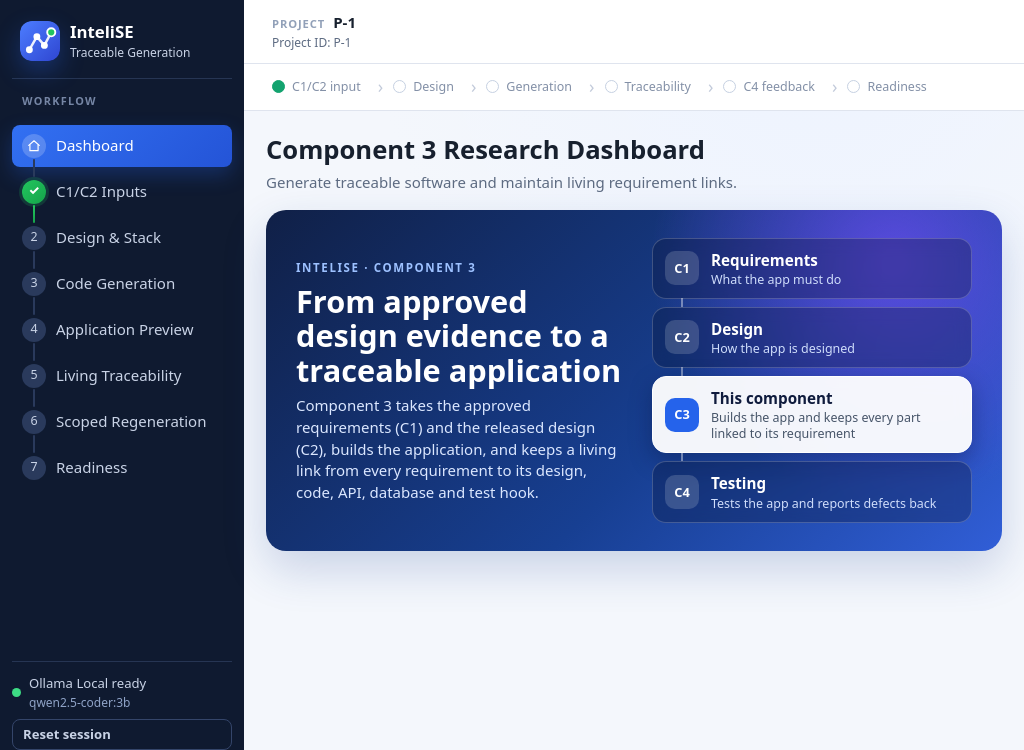
it: Design coverage card › does not reuse a coverage report cached only by release labels
The width and height of the screenshot is (1024, 750).
What coordinates should you click on to do the following:
click the button "2 Design & Stack"
I would click on:
 (122, 238)
Its box is [12,216,232,258].
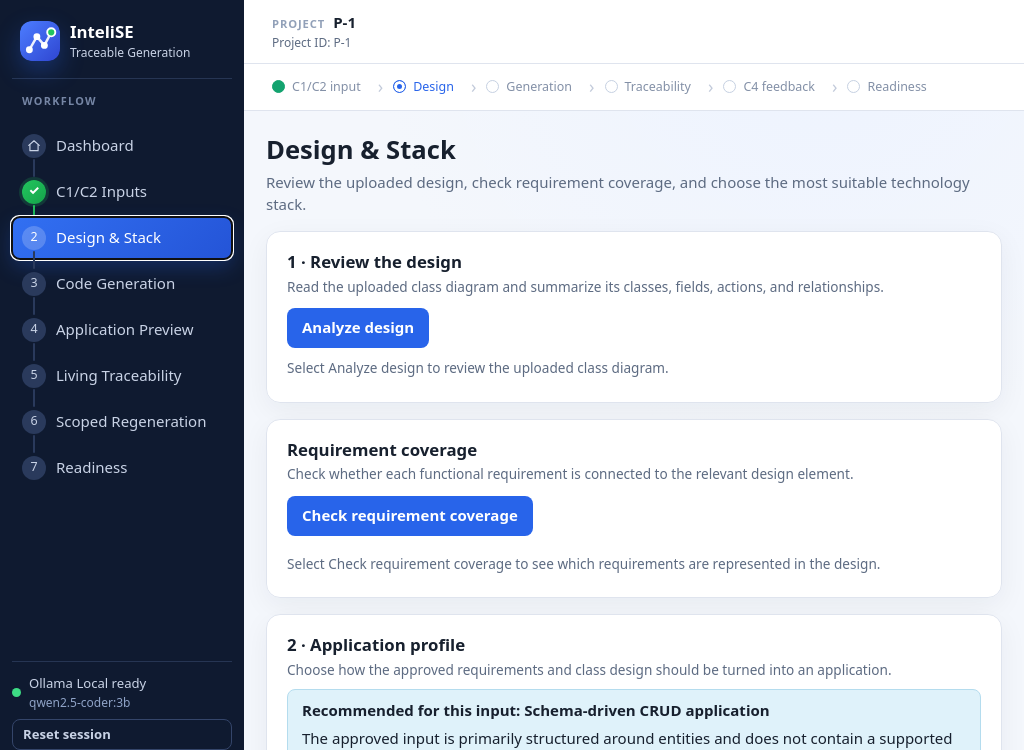
Expected: the text "Select Check requirement coverage" is shown, [287,554,880,572]
